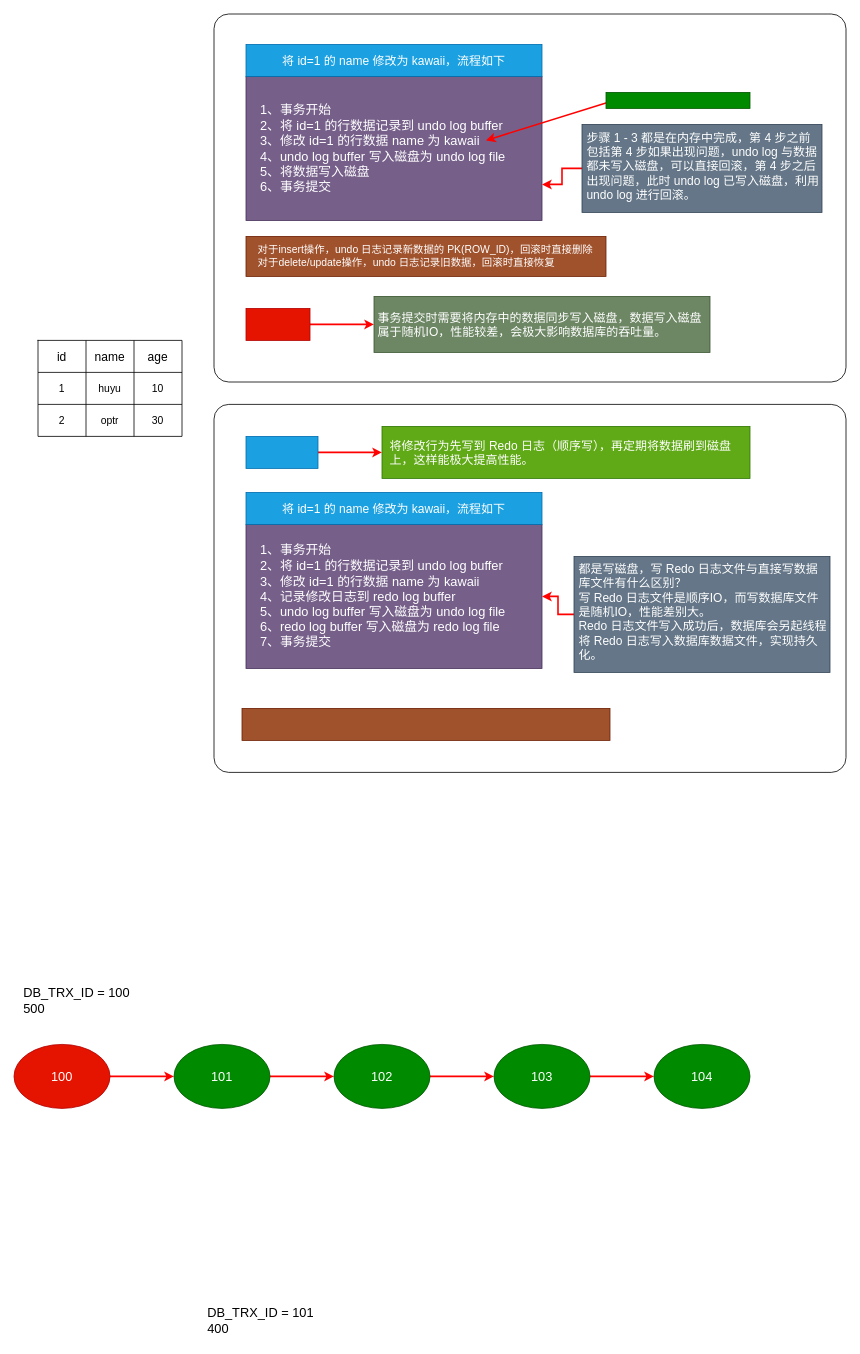
Some shapes in this 860 by 1354 pixel diagram are drawn without their labels. Here are the shapes that lost their labels. From the top down, the centre of each, then its label:
At point 677,100: "这里还是在内存中修改的".
At point 277,324: "存在问题".
At point 281,452: "优化方案".
At point 425,724: "Undo 日志存储的是历史数据快照，Redo 日志则存储最新数据".
